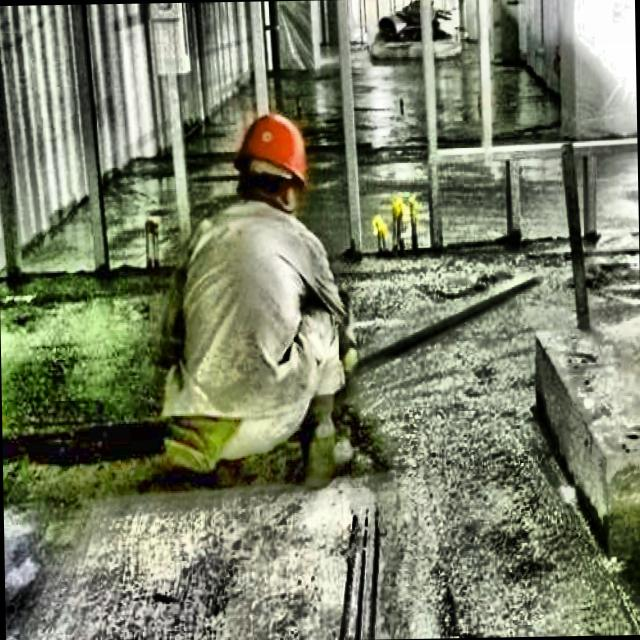helmet: (230, 101, 314, 227)
